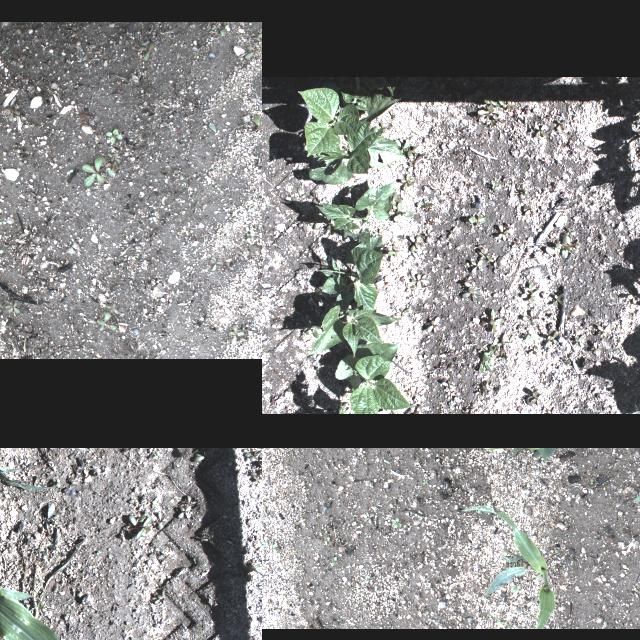crop: (0, 511, 111, 640), (458, 505, 554, 629), (296, 88, 399, 156), (308, 120, 404, 184), (334, 341, 414, 414), (313, 235, 383, 315), (0, 448, 131, 490), (314, 180, 394, 246), (307, 302, 401, 358), (328, 77, 397, 103), (334, 406, 348, 414)
weed: (78, 152, 112, 186), (120, 511, 152, 541), (33, 578, 55, 612), (92, 305, 118, 331), (554, 234, 578, 258), (136, 36, 158, 62), (480, 610, 510, 628), (482, 310, 502, 334), (46, 502, 59, 536), (477, 102, 501, 120), (227, 325, 247, 345), (242, 44, 262, 64), (461, 285, 483, 303), (206, 24, 232, 38), (104, 128, 124, 146), (208, 256, 226, 276), (393, 203, 413, 221), (249, 238, 262, 265), (2, 108, 20, 126), (520, 310, 540, 326), (410, 274, 430, 290), (405, 138, 421, 158), (302, 322, 322, 338), (392, 138, 410, 154), (527, 389, 543, 407), (478, 354, 492, 374), (3, 300, 19, 316), (104, 149, 120, 165), (570, 334, 586, 350), (170, 167, 188, 181), (426, 316, 440, 334), (400, 173, 414, 191), (252, 112, 262, 136), (528, 282, 540, 302), (153, 510, 165, 530), (292, 185, 306, 202), (388, 193, 402, 210), (194, 448, 212, 461), (544, 332, 558, 348), (496, 338, 512, 352), (497, 225, 511, 241), (177, 504, 191, 520), (241, 225, 253, 242), (409, 235, 421, 252), (468, 213, 488, 223), (414, 198, 434, 208), (338, 386, 358, 396), (482, 96, 504, 105), (241, 451, 259, 462), (470, 260, 484, 274), (362, 512, 376, 526), (625, 292, 640, 305), (486, 261, 502, 273), (153, 589, 165, 605), (298, 215, 308, 233), (553, 292, 565, 306), (523, 202, 535, 216), (534, 123, 546, 137), (502, 98, 516, 110), (492, 113, 506, 125), (484, 352, 494, 368), (394, 308, 410, 318), (312, 213, 322, 229), (495, 351, 507, 364), (182, 496, 195, 508), (474, 387, 488, 398), (0, 43, 12, 55), (479, 250, 491, 262), (308, 192, 320, 204), (250, 470, 262, 482), (590, 341, 600, 355), (556, 116, 566, 130), (388, 250, 404, 258), (596, 326, 606, 338), (566, 226, 576, 238), (488, 346, 498, 358), (447, 226, 457, 238), (519, 184, 529, 196), (484, 116, 496, 126), (376, 121, 386, 133), (326, 218, 336, 230), (255, 156, 262, 172), (424, 229, 432, 243), (392, 517, 401, 529), (311, 289, 321, 299), (153, 618, 163, 628), (252, 563, 262, 572), (546, 408, 560, 414), (634, 495, 640, 509), (529, 346, 537, 356), (407, 162, 415, 172), (414, 404, 422, 414), (510, 585, 520, 593), (330, 557, 338, 567), (262, 194, 266, 211), (524, 334, 532, 342), (199, 535, 207, 543), (492, 180, 498, 190), (341, 401, 347, 411), (323, 536, 329, 546), (309, 212, 313, 226), (364, 575, 371, 583), (262, 538, 267, 548), (387, 160, 393, 168), (342, 145, 350, 151), (153, 450, 159, 458), (56, 479, 60, 489), (259, 462, 262, 475), (530, 468, 536, 474), (422, 479, 428, 485), (272, 545, 276, 553), (476, 504, 479, 514), (270, 540, 274, 546), (126, 638, 135, 640)
